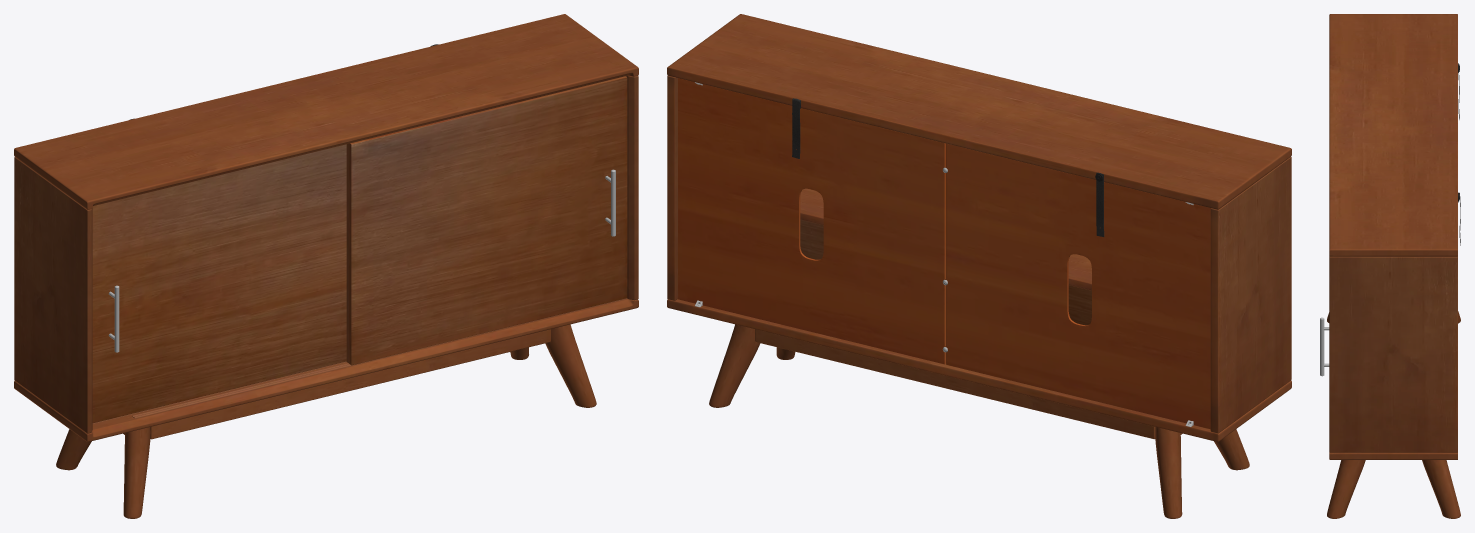
Rendered from abo-B084QWW4LR.glb.
3 renders of one model, left to right at view 1: azimuth 30°, elevation 25°; view 2: azimuth 150°, elevation 25°; view 3: azimuth 270°, elevation 25°, orthographic. The views are drawn at different scales.
Bounding box in the file's own units: 1.22 × 0.698 × 0.308.
Materials: 1 (1 with a texture image).
